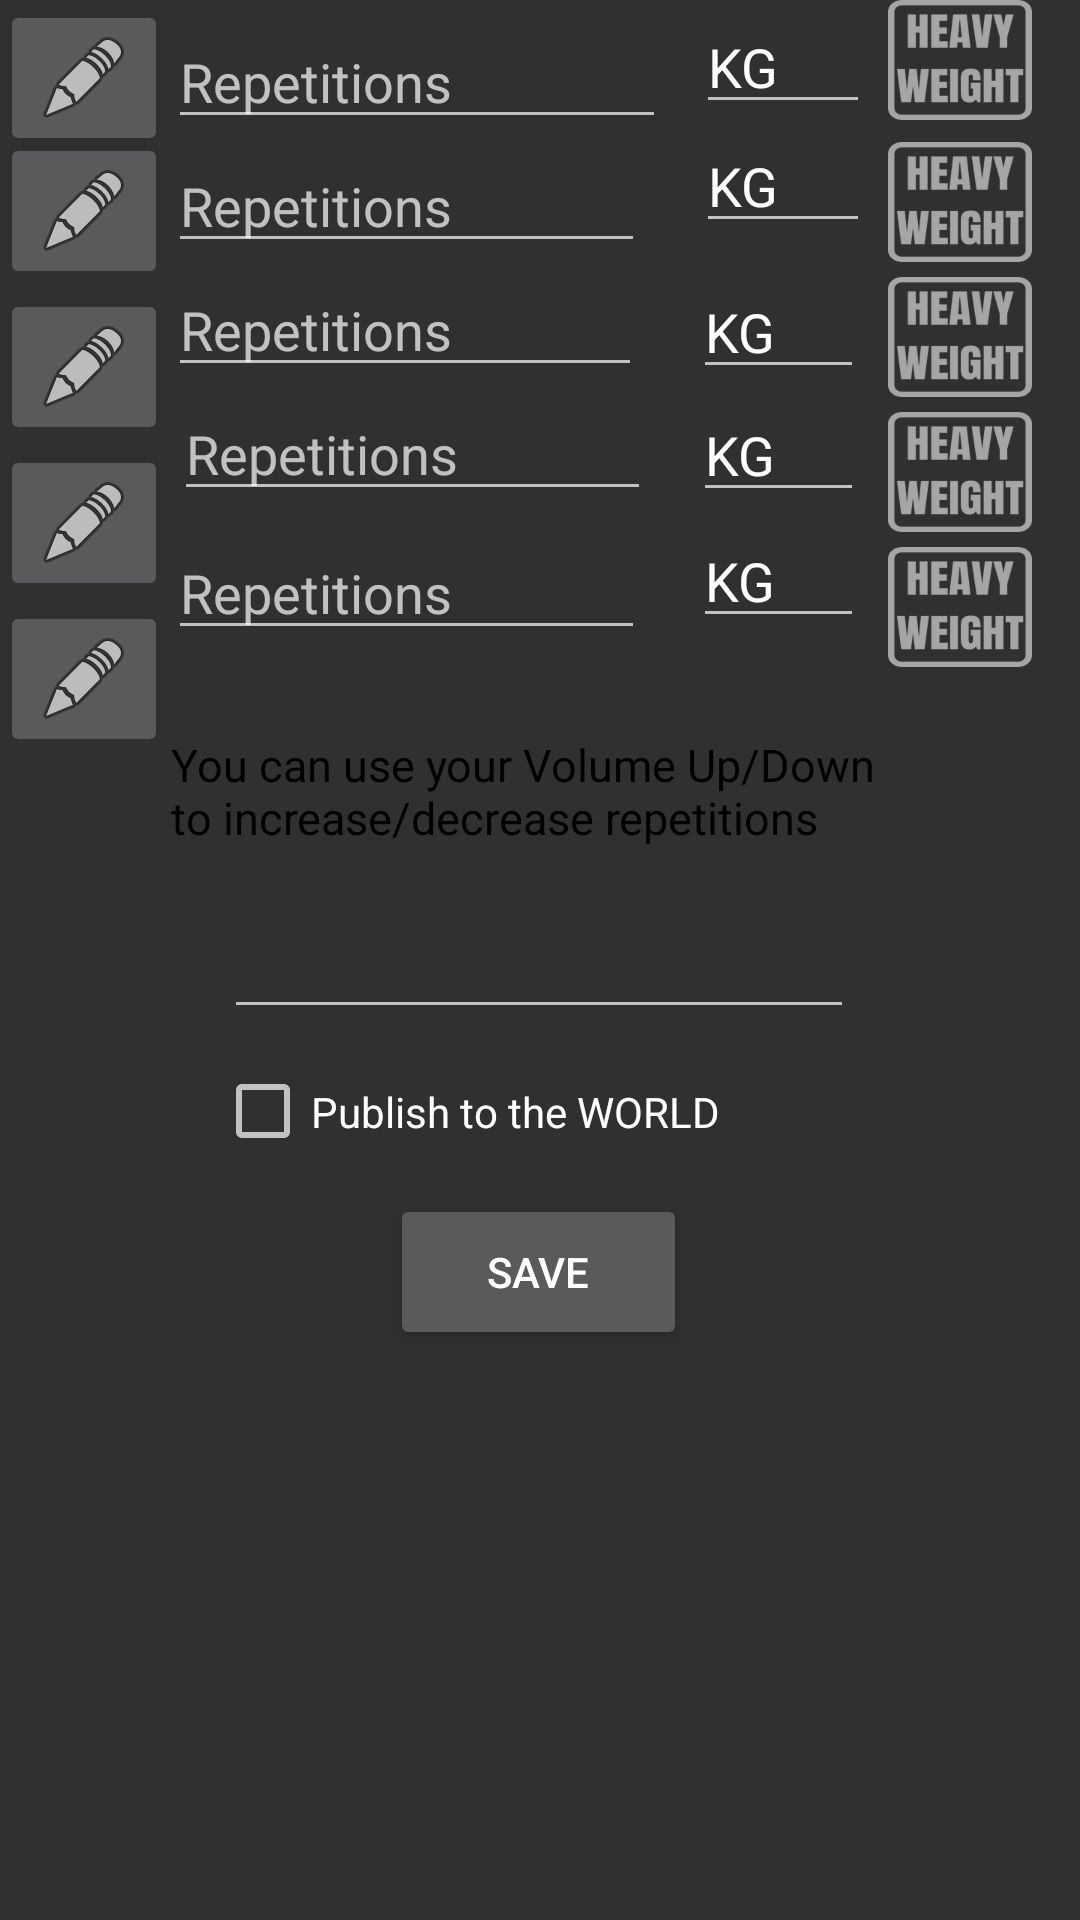

Point at icon controls on the screen. Image size 1080px x 1920px, points as point (x, y).
edit: point (84, 78), point (84, 211), point (84, 367), point (84, 523), point (84, 679)
